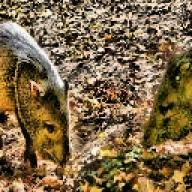boar: (0, 18, 72, 168), (139, 6, 192, 157)
